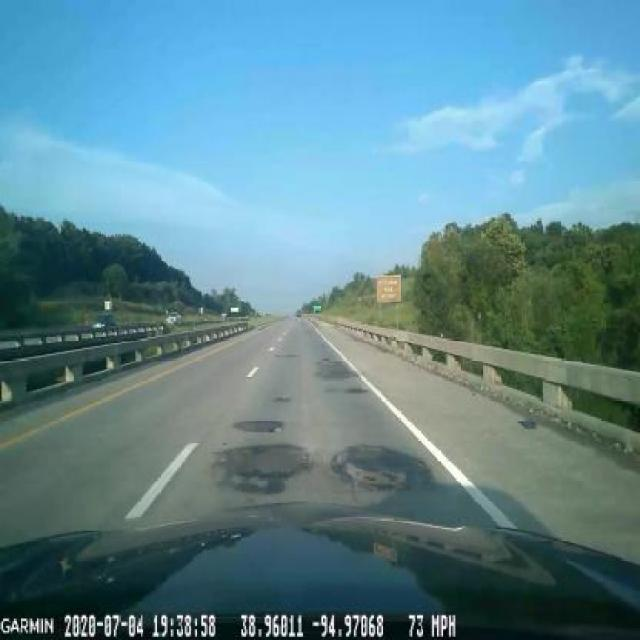pothole: (319, 434, 453, 502), (205, 435, 316, 501), (228, 406, 293, 440), (312, 350, 360, 390)
